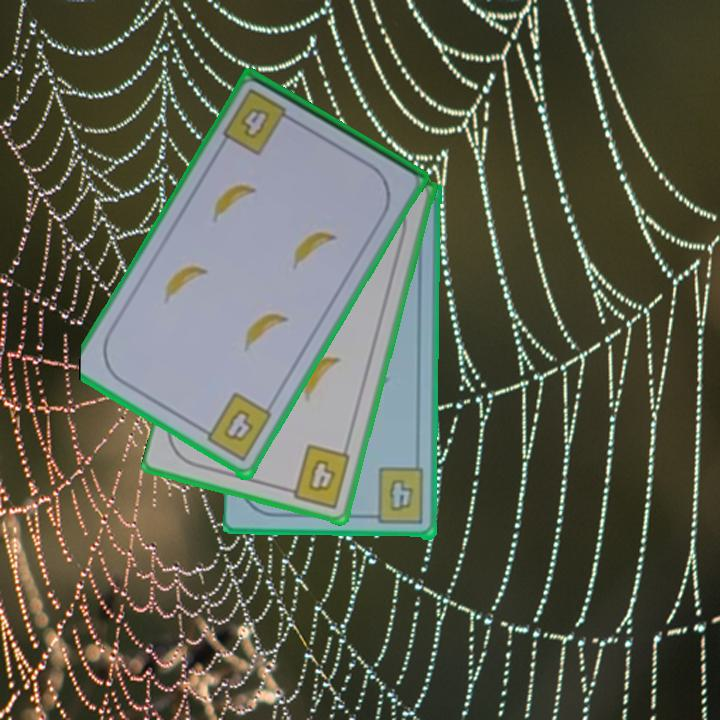4b: (195, 389, 275, 466), (280, 441, 354, 511), (364, 466, 427, 527), (236, 104, 274, 143)
